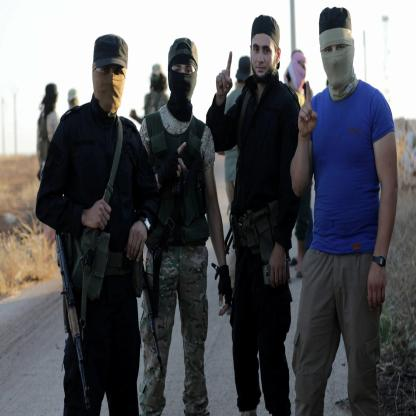rifle: (52, 232, 94, 412), (142, 265, 165, 375)
